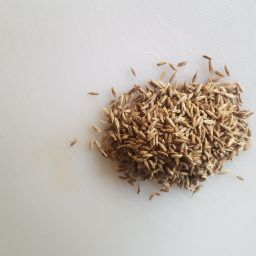Cumin (zeera): (71, 70, 247, 204), (120, 53, 256, 186), (132, 96, 249, 170)
